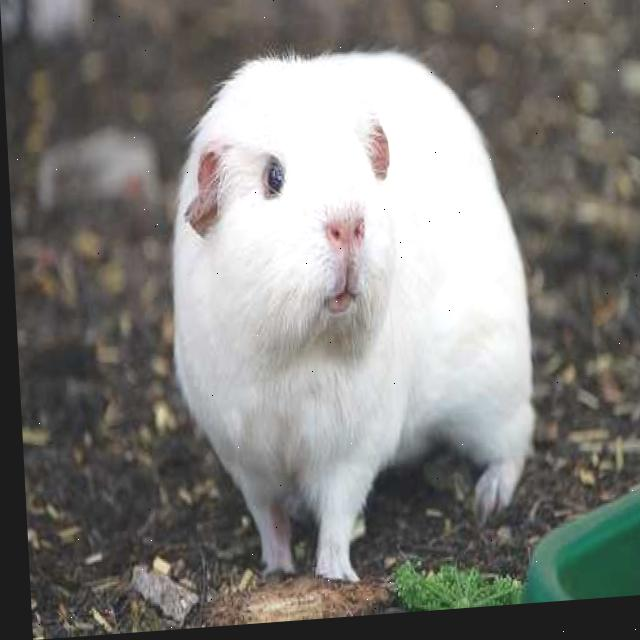guinea pig: (158, 38, 536, 598)
